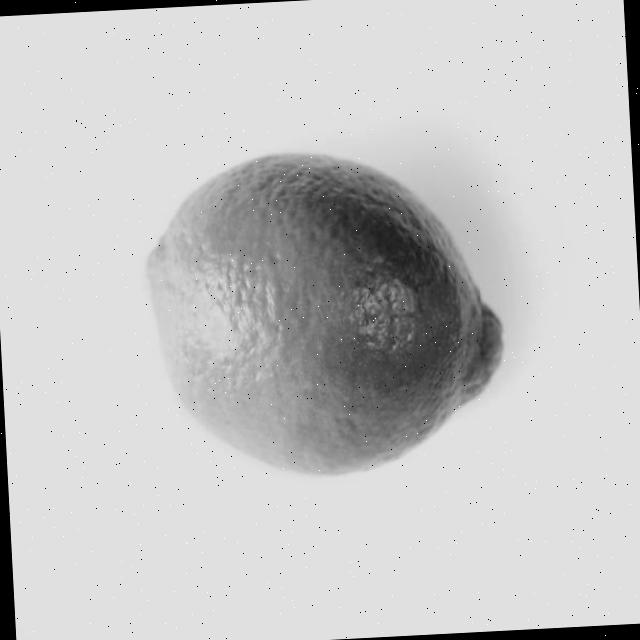Unripe: (142, 142, 516, 490)
